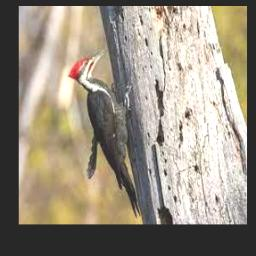Woodpecker: (68, 47, 141, 217)
